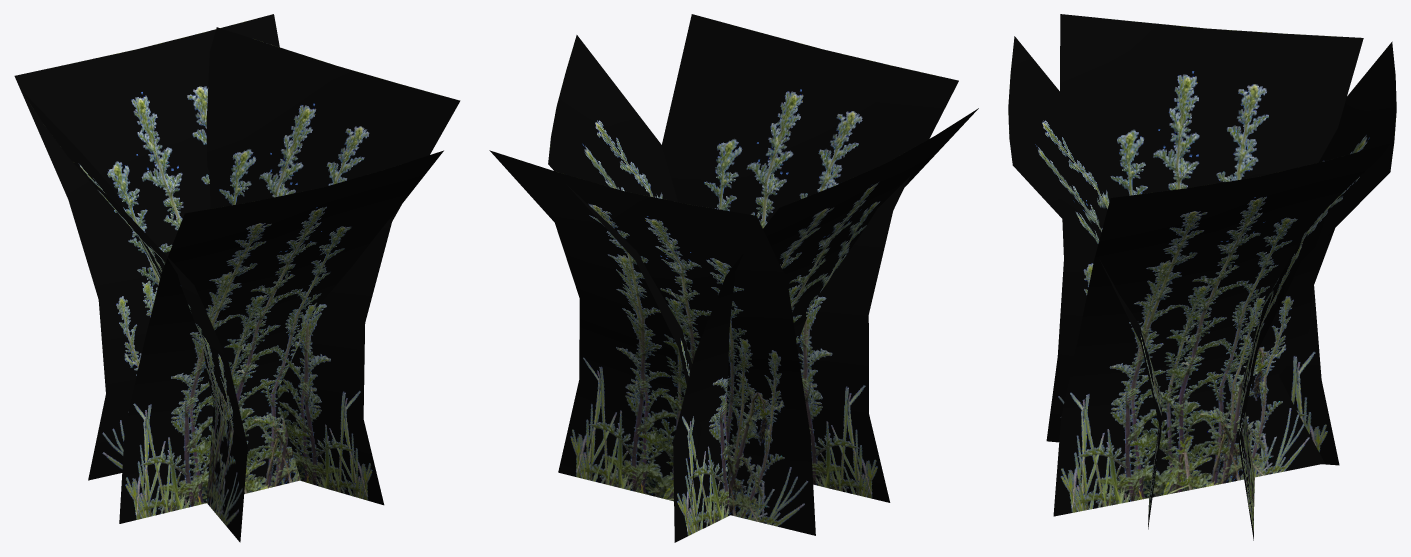
Rendered from grass.fbx.
The picture shows the model from 3 angles, left to right: view 1: azimuth 30°, elevation 25°; view 2: azimuth 150°, elevation 25°; view 3: azimuth 270°, elevation 25°; orthographic projection. The views are drawn at different scales.
Visible parts, largest first — view 1: Plane; view 2: Plane; view 3: Plane.
Boxes of the visible parts, x1=… form: Plane: x1=14, y1=14, x2=460, y2=542; Plane: x1=489, y1=14, x2=978, y2=542; Plane: x1=1008, y1=14, x2=1396, y2=540.
Size of the model in its own units: 212 by 200 by 190.
Materials: 1 (1 with a texture image).
